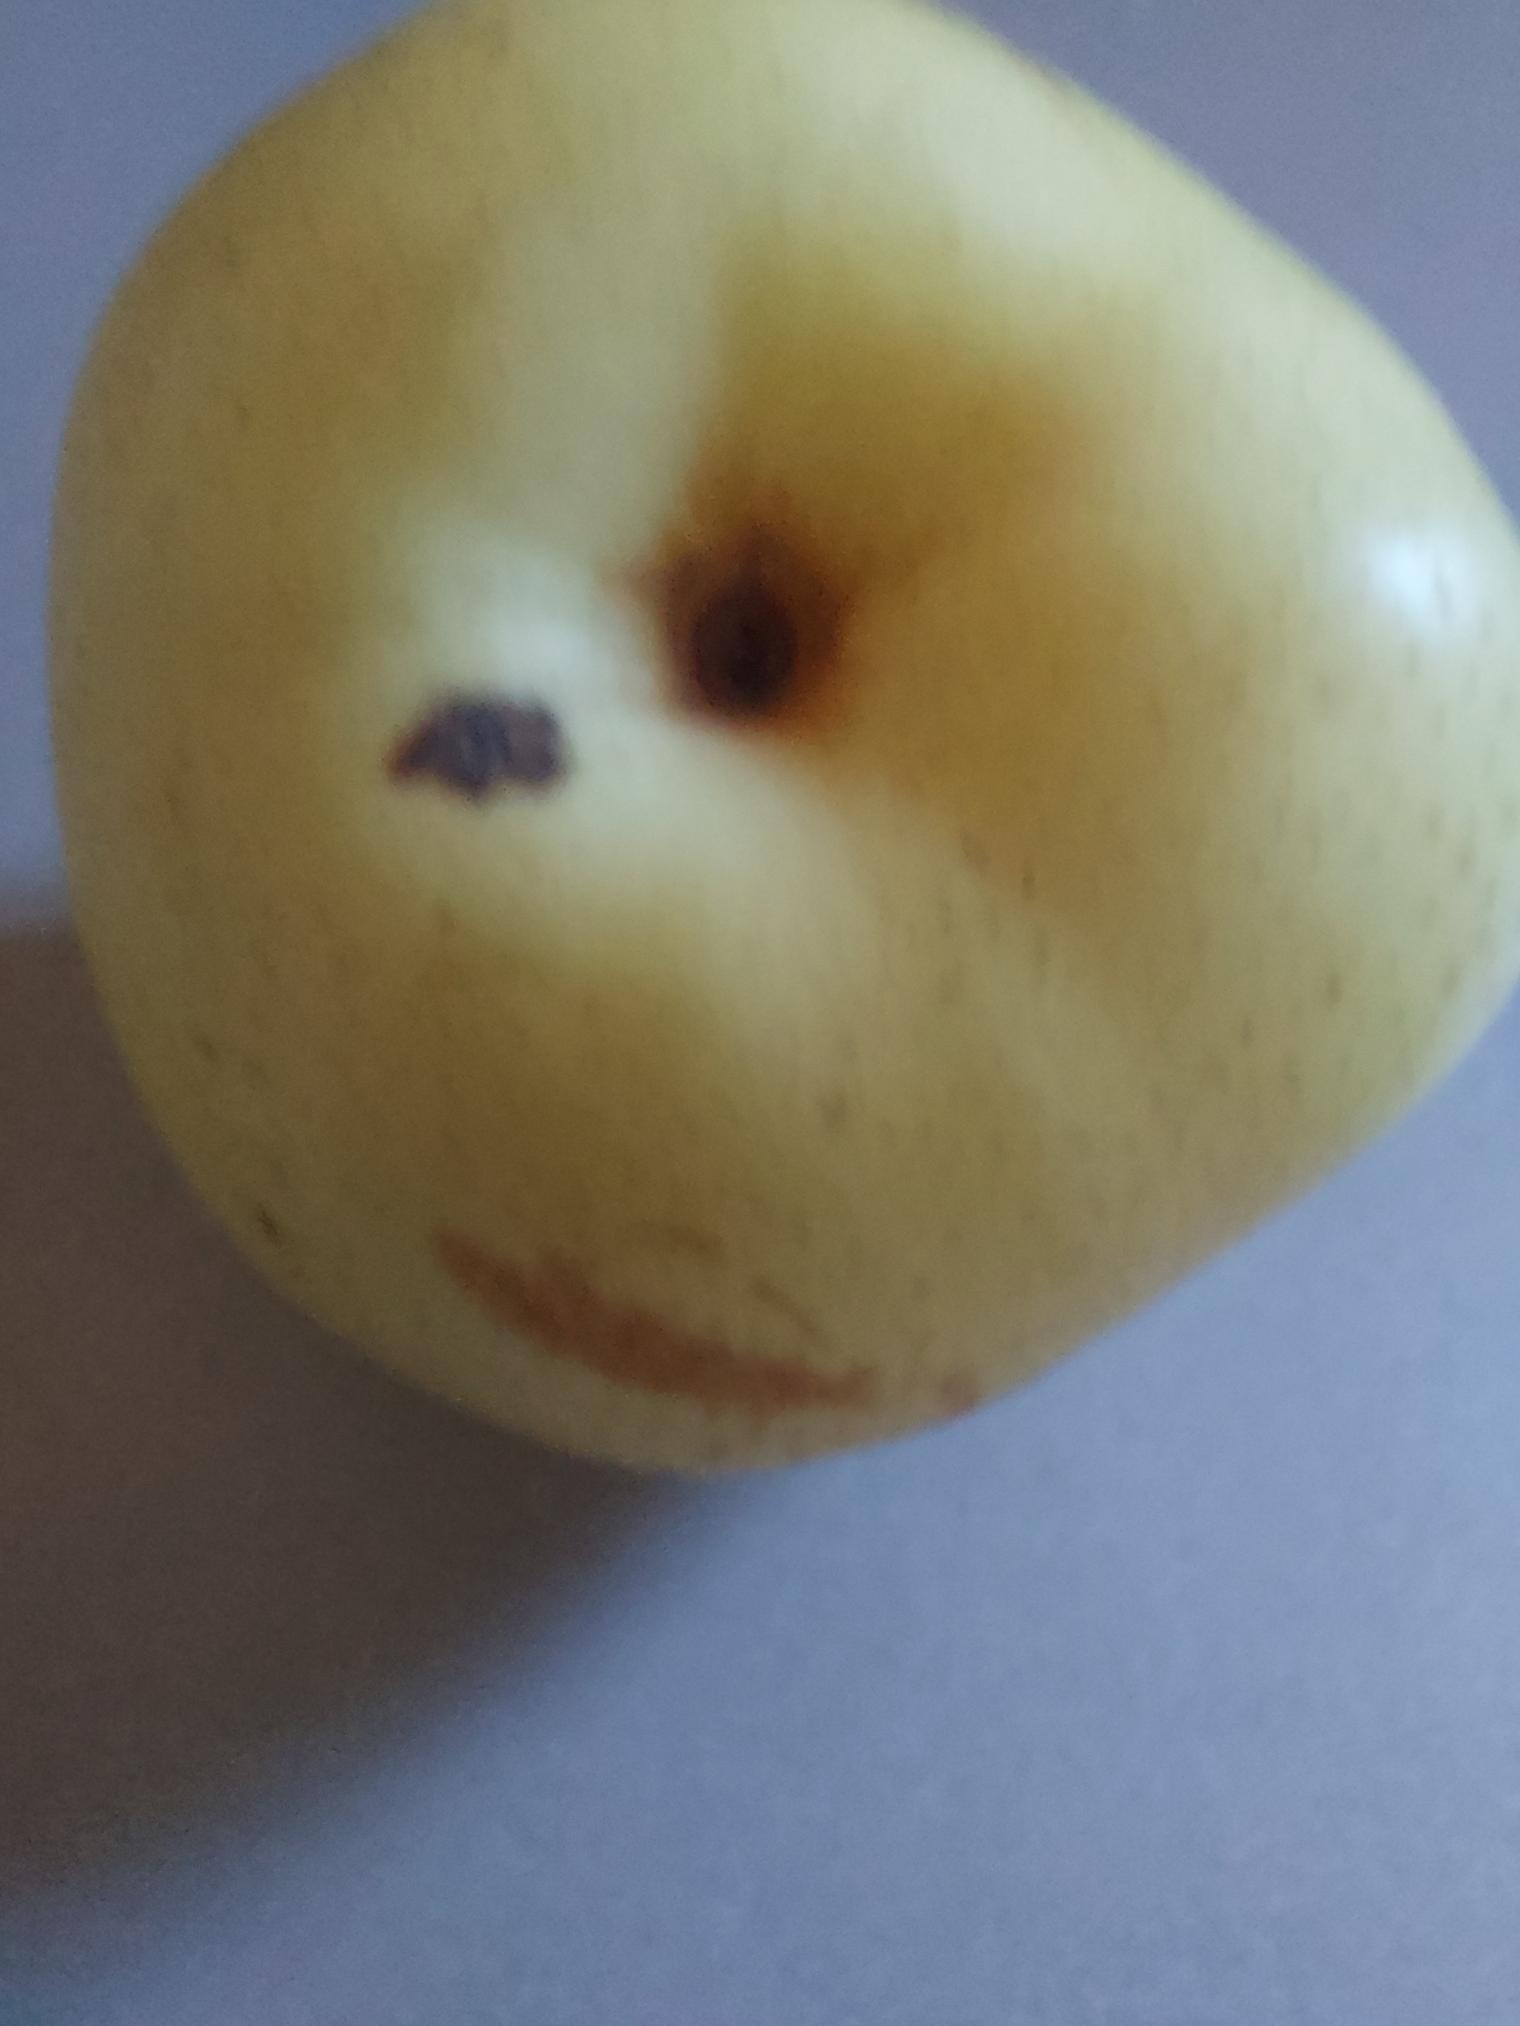Good Pear: (26, 5, 1520, 1494)
